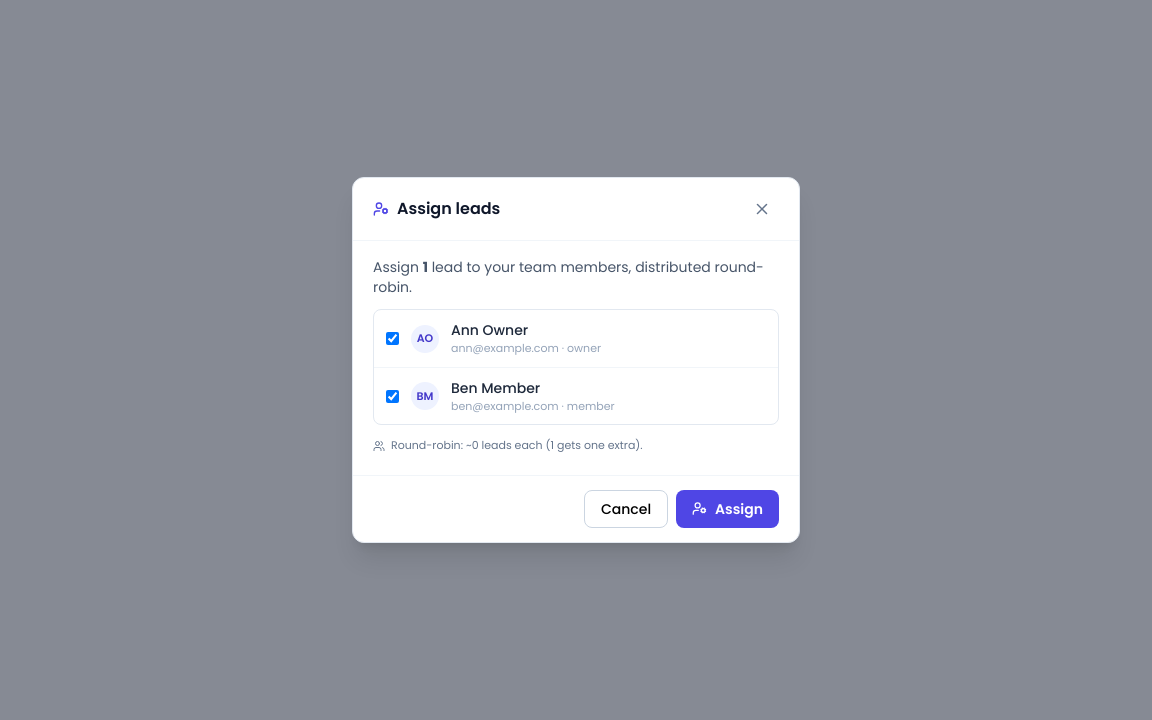
AssignModal › surfaces the backend error instead of faking success
Expected: the text "Ann Owner" is shown, [451,320,528,340]
Click the button "Assign".
click(728, 509)  # box [676,490,779,528]
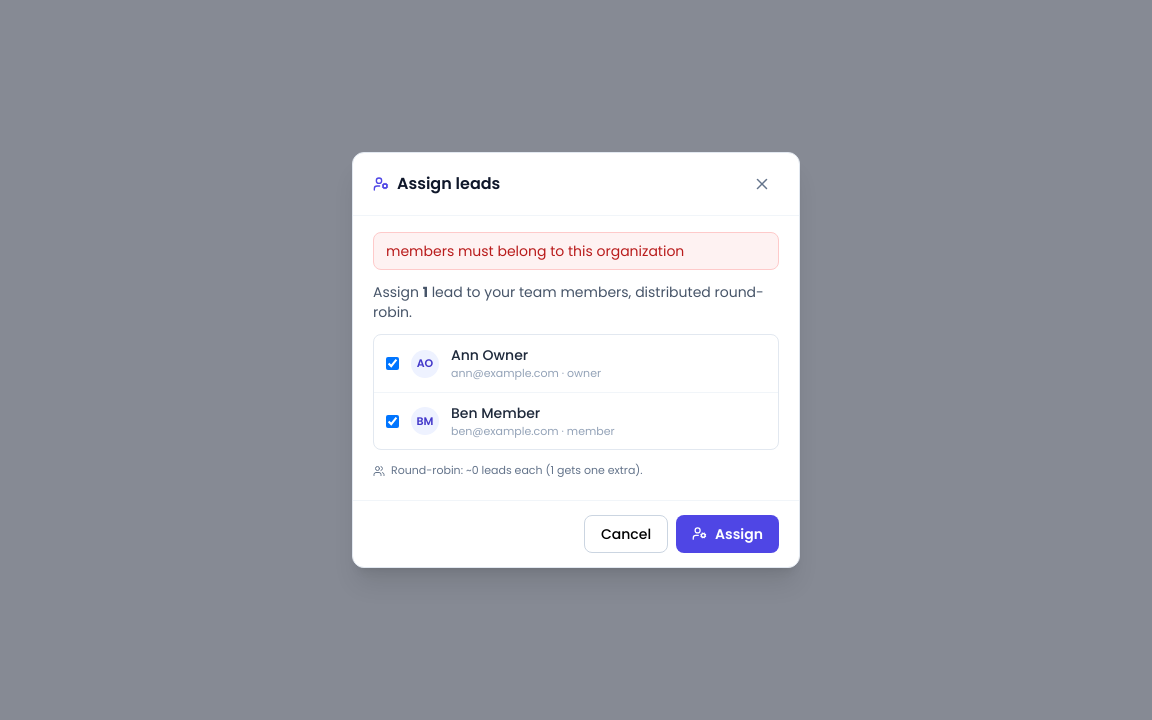
Expected: the message shows "members must belong", [386,241,684,261]
